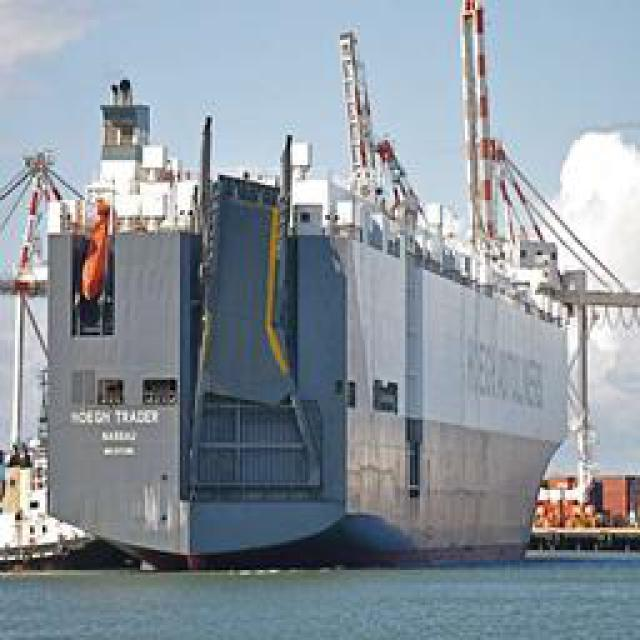Ship: (24, 11, 599, 576)
